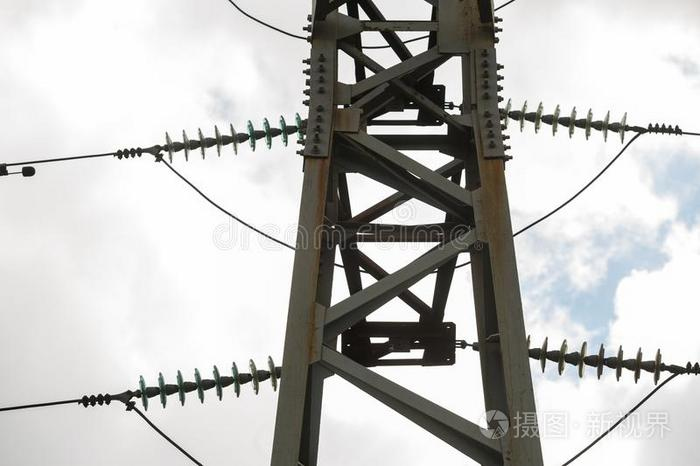insulator: (136, 352, 280, 413), (163, 114, 303, 168), (526, 334, 664, 386), (500, 96, 631, 142)
